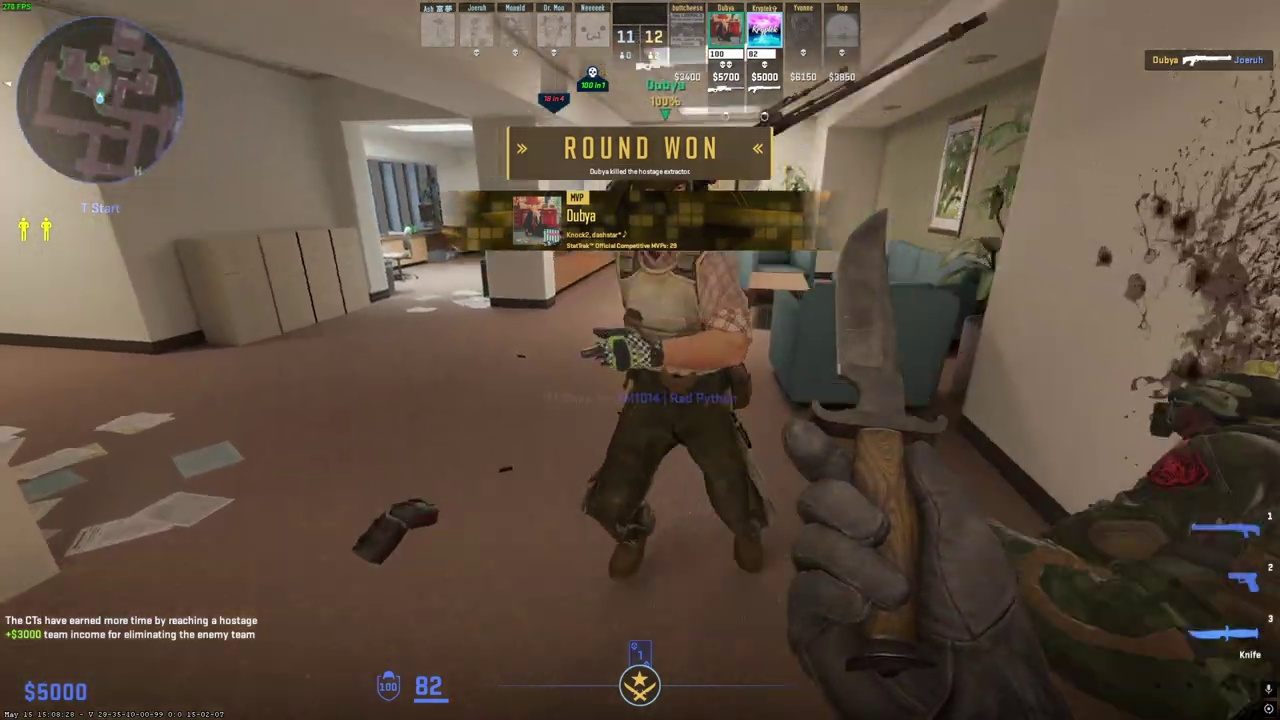Terrorist: (580, 179, 772, 583)
